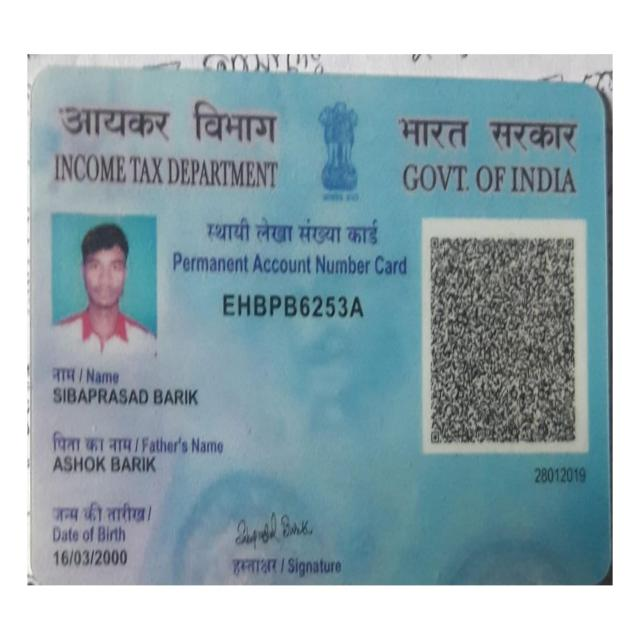pan_card: (34, 71, 612, 588)
